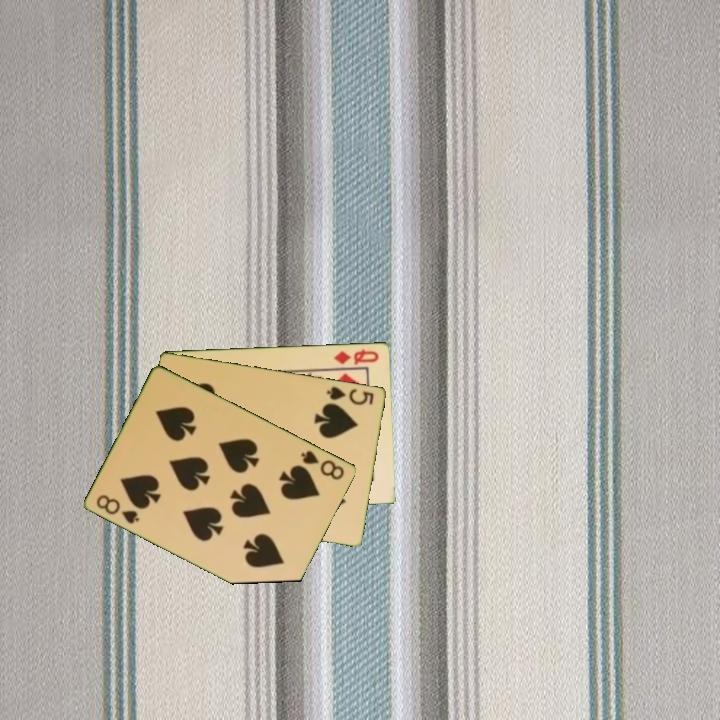5s: (323, 382, 377, 408)
8s: (297, 446, 348, 483), (93, 491, 142, 527)
Qd: (330, 345, 382, 367)
